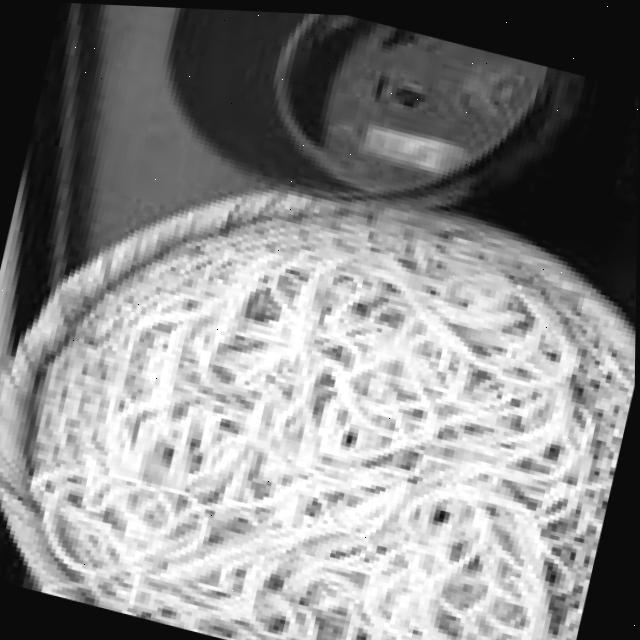面条主食: (0, 100, 639, 640)
